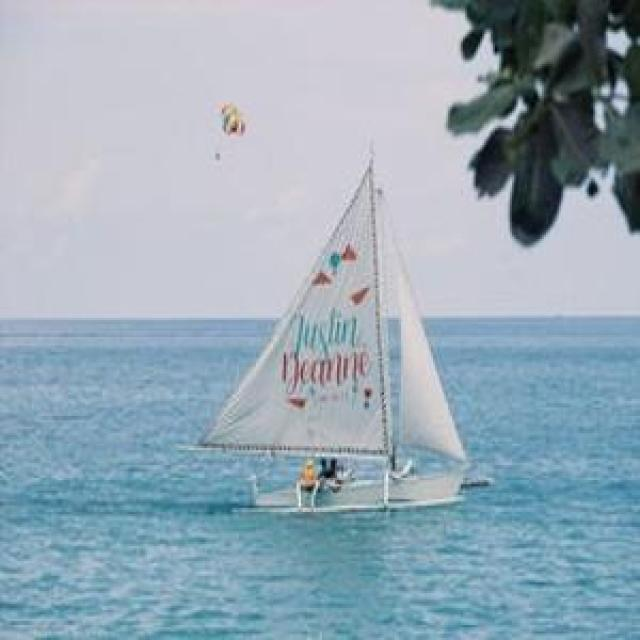sailboat: (199, 146, 476, 512)
